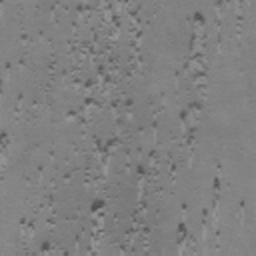Oxide scale of temperature system: (27, 194, 145, 252), (179, 11, 209, 145), (81, 40, 134, 108), (62, 134, 122, 179), (74, 0, 142, 28), (136, 149, 159, 175), (211, 177, 221, 207), (176, 222, 188, 244), (0, 130, 10, 149), (47, 96, 55, 110)
